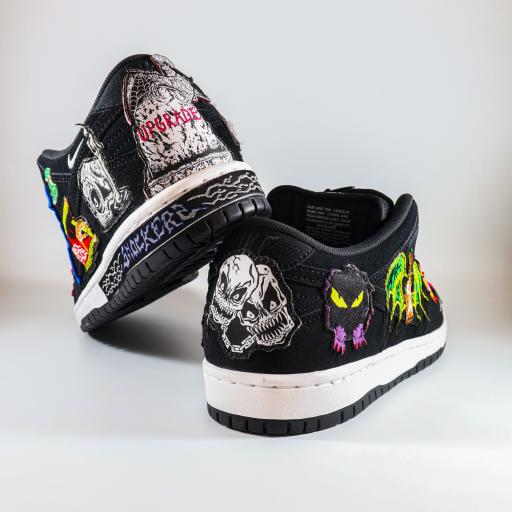shoe: (38, 55, 269, 330), (203, 186, 446, 434)
